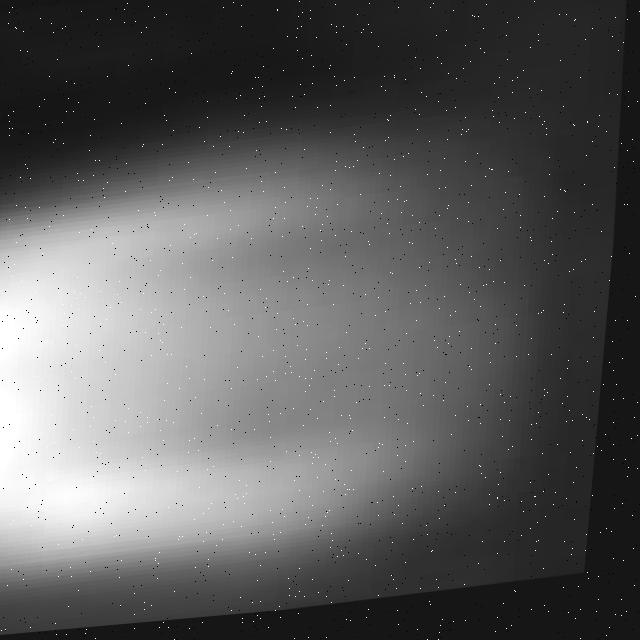person: (1, 93, 499, 589)
